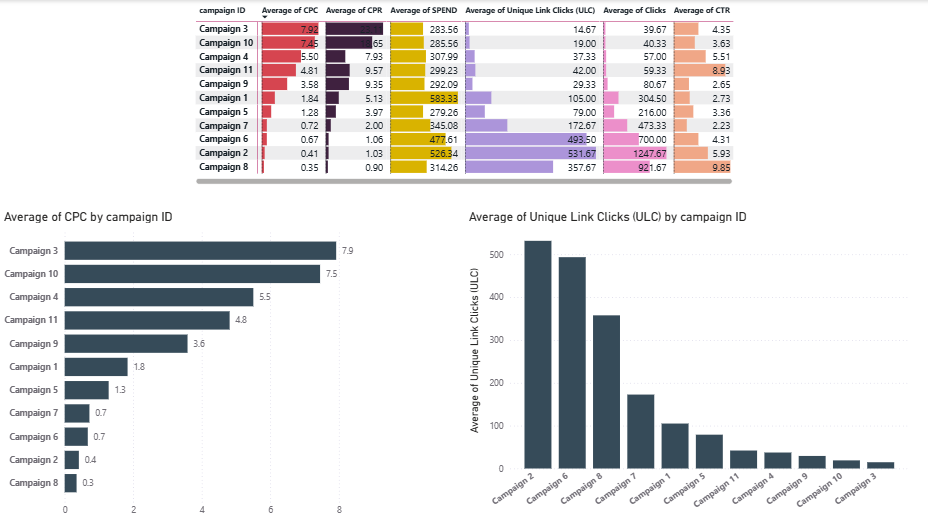

This screenshot's page, from the dashboard's own definition file:
{"tool":"powerbi","page":{"name":"Executive KPI Overview","canvas":[1280,720],"ordinal":0},"visuals":[{"type":"pivotTable","fields":{"Values":["Avg(Sheet1.Cost Per Click (CPC))","Avg(Sheet1.Cost per Result (CPR))","Avg(Sheet1.Amount Spent in INR)","Avg(Sheet1.Unique Link Clicks (ULC))","Avg(Sheet1.Clicks)","Avg(Sheet1.Click-Through Rate (CTR in %))"],"Rows":["Sheet1.campaign ID"]},"box":[264.3,0,750.1,258.8],"z":0},{"type":"clusteredBarChart","fields":{"Y":["Avg(Sheet1.Cost Per Click (CPC))"],"Category":["Sheet1.campaign ID"]},"box":[0,287.7,568.4,432.2],"z":1000},{"type":"columnChart","fields":{"Y":["Avg(Sheet1.Unique Link Clicks (ULC))"],"Category":["Sheet1.campaign ID"]},"box":[640,287.7,615.2,432.2],"z":2000}]}

Visuals, with their boxes in screenshot pixels (x1, y1, x2, y2), scaled from the page's 1280x720 canvas onto the 928x523 screenshot:
pivotTable - Avg(Sheet1.Cost Per Click (CPC)) x Avg(Sheet1.Cost per Result (CPR)): region(192, 0, 735, 188)
clusteredBarChart - Avg(Sheet1.Cost Per Click (CPC)) x Sheet1.campaign ID: region(0, 209, 412, 522)
columnChart - Avg(Sheet1.Unique Link Clicks (ULC)) x Sheet1.campaign ID: region(464, 209, 910, 522)
